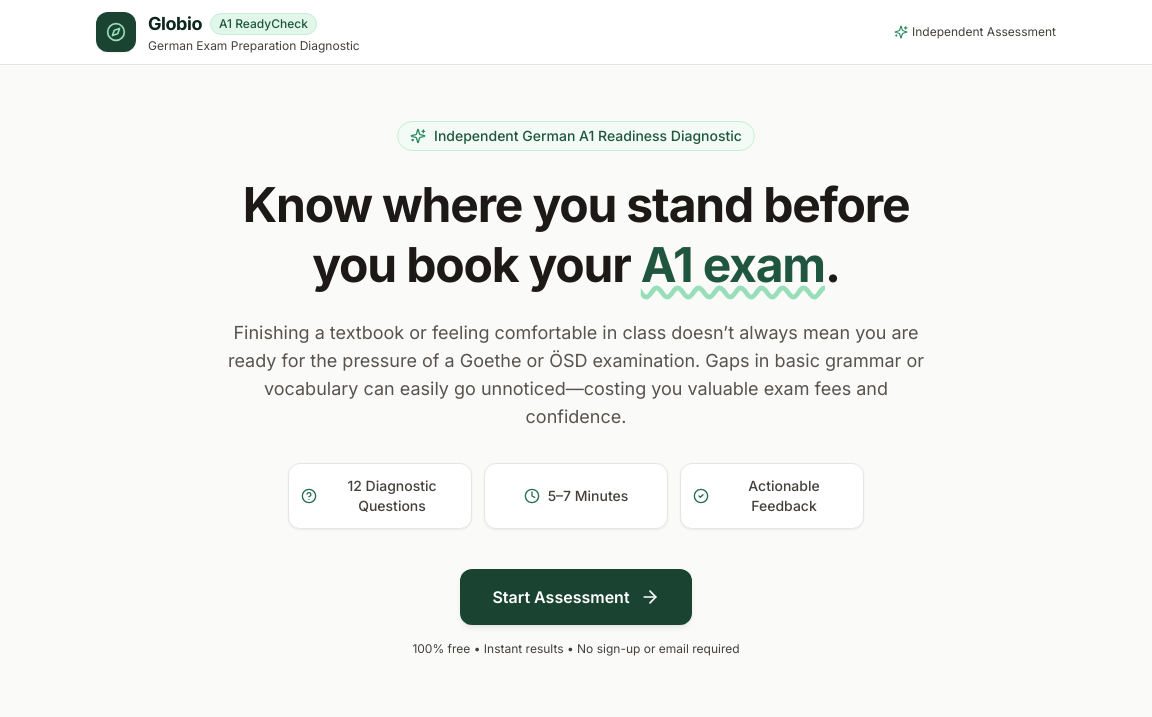
Test: Assessment Flow Integration Tests › prevents submission on Review screen when answers are incomplete
// Start assessment
Click the button "Start Assessment" at (576, 597), box [460,569,692,625]
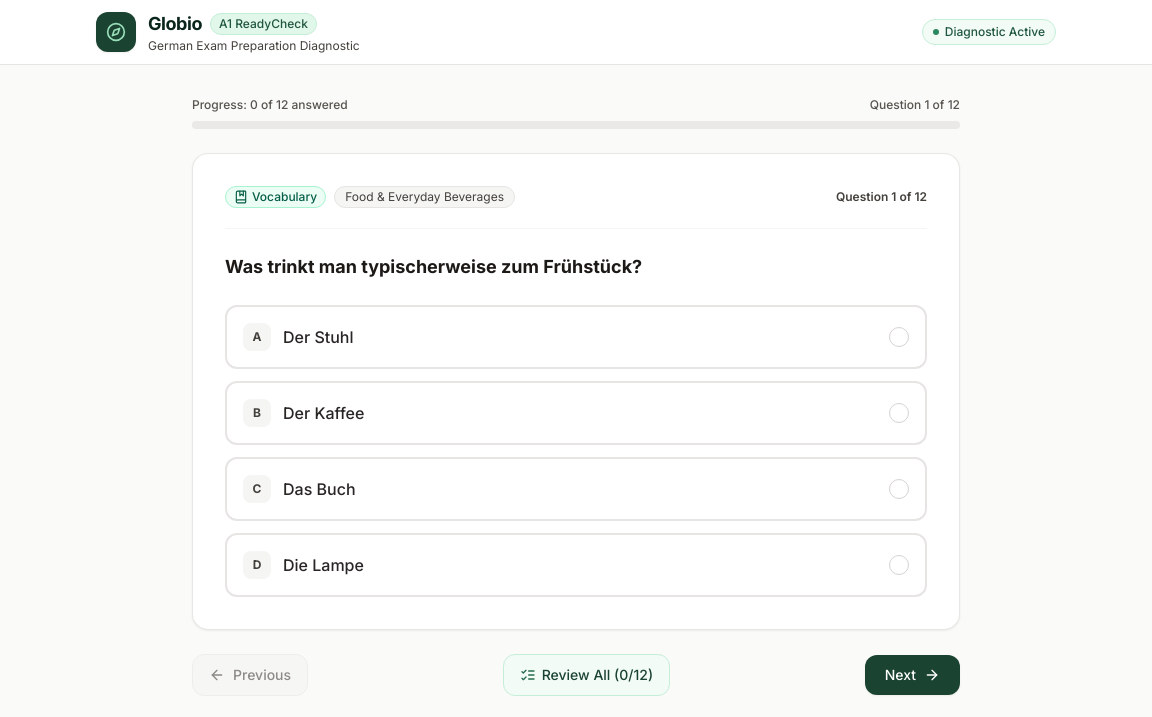
// Only answer Question 1
Click the text "Der Stuhl" at (318, 337), box [283,325,354,349]
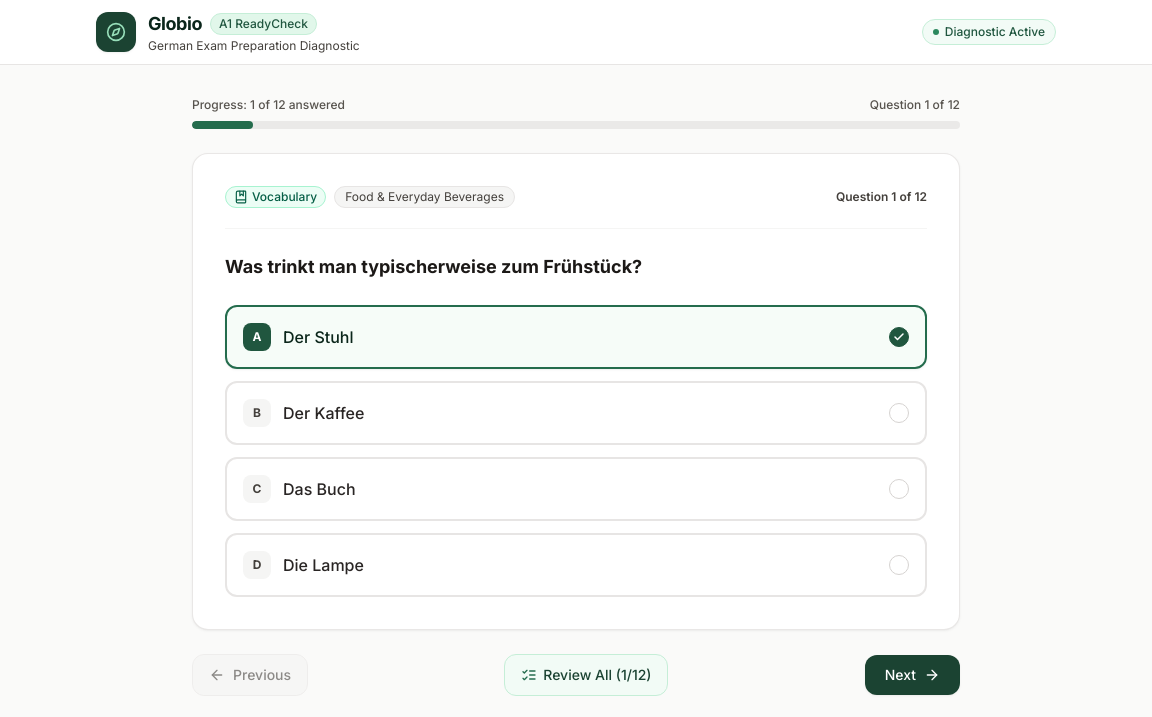
// Open Review
Click the button "Review All (1/12)" at (586, 675), box [504,654,668,696]
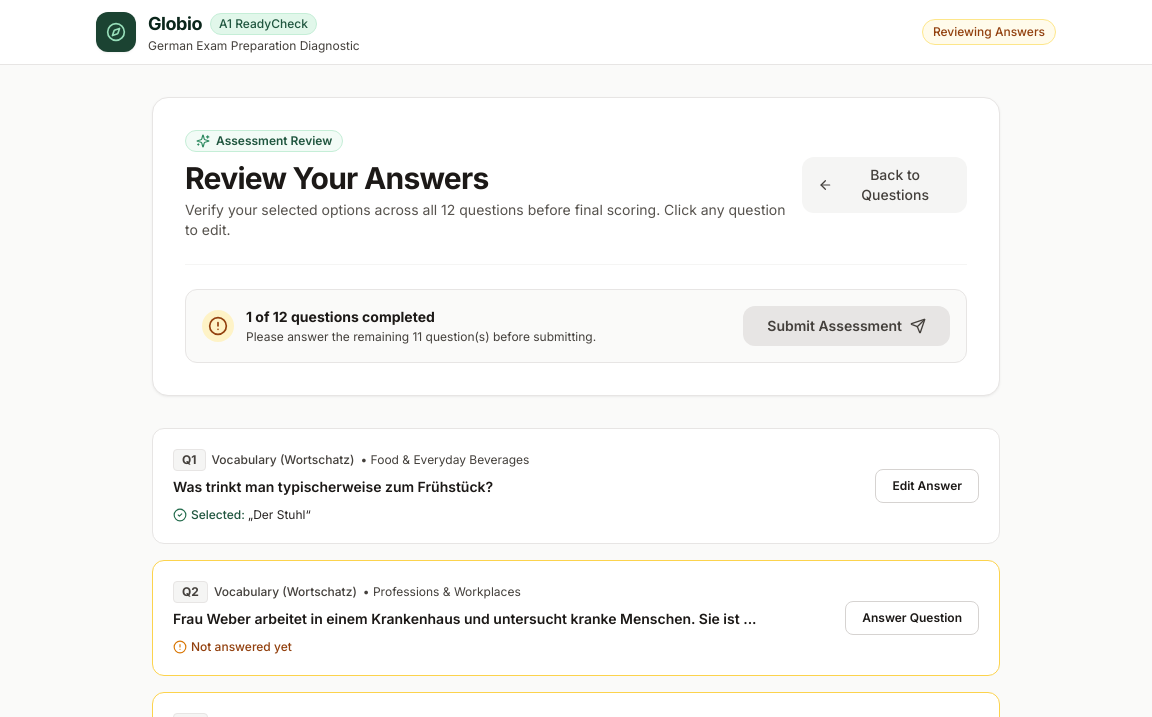
Expected: the text "1 of 12 questions completed" is shown, [246,308,435,325]
Expected: the button "Submit Assessment" is disabled, [743,306,950,346]
